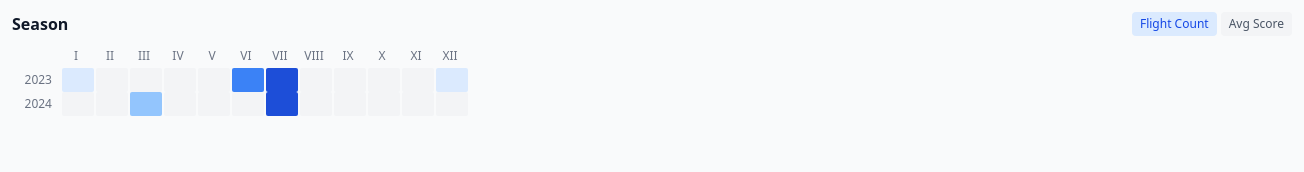
it: SeasonHeatmap › highlights score button when in score mode
Click the button "Avg Score": (1256, 24) [1221, 12, 1292, 36]
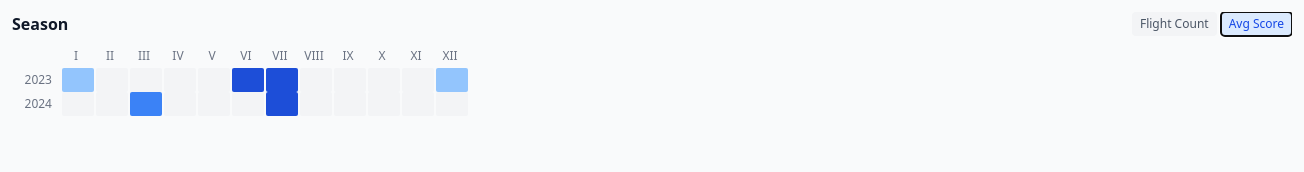
Expected: the button "Avg Score" has class "bg-blue-100" "text-blue-700", [1221, 12, 1292, 36]
Expected: the button "Flight Count" has class "bg-gray-100" "text-gray-600", [1132, 12, 1217, 36]
